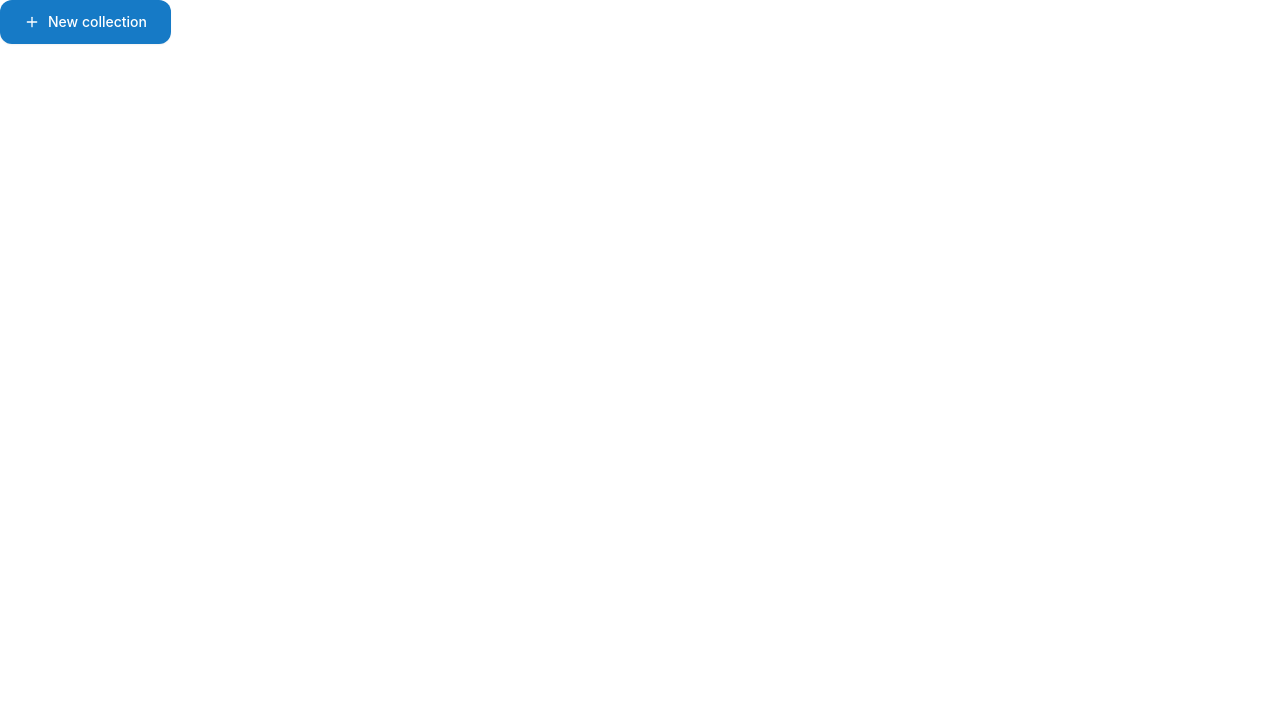
Test: creates through a focused dialog with a private default and dismisses on success
Click the button "New collection": (86, 22) top-left (0, 0), bottom-right (171, 44)
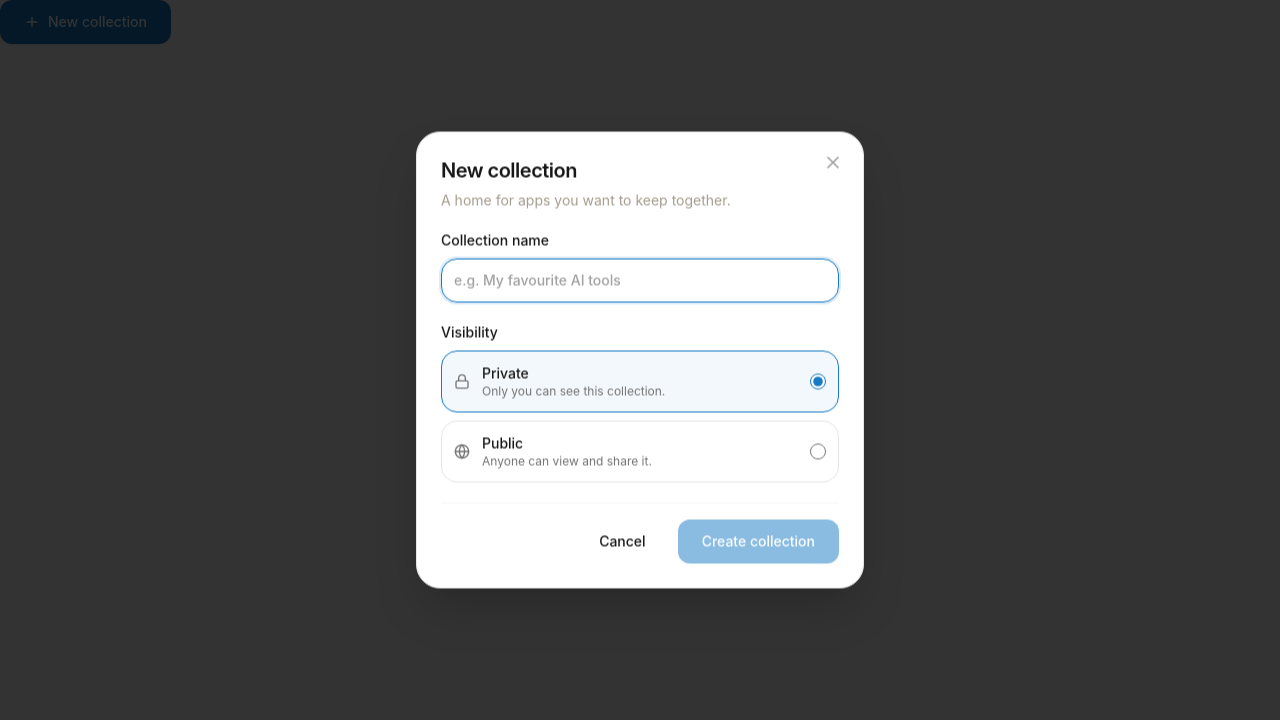
Expected: the dialog is shown, top-left (416, 132), bottom-right (864, 588)
Expected: the radio button labelled "Private" is checked, top-left (810, 374), bottom-right (826, 390)
In the field labelled "Collection name": (640, 280) top-left (441, 258), bottom-right (839, 302), type "AI tools"
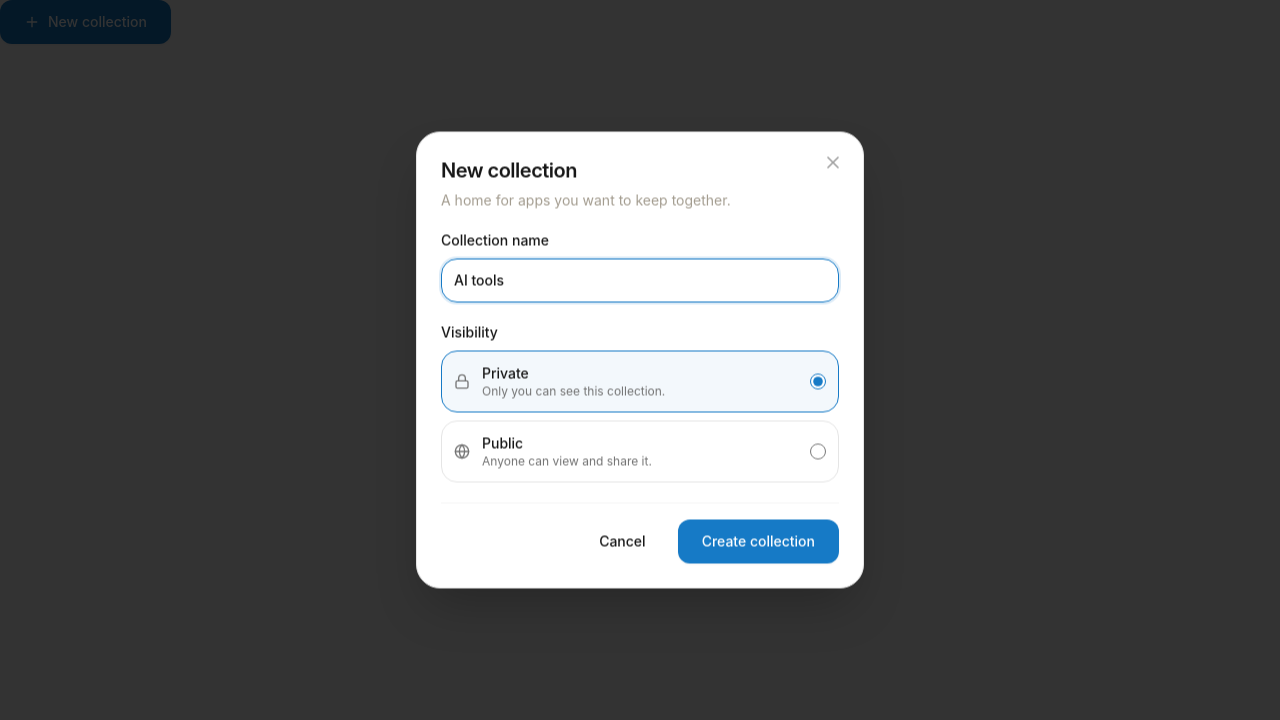
Click the button "Create collection": (758, 542) top-left (678, 520), bottom-right (839, 564)
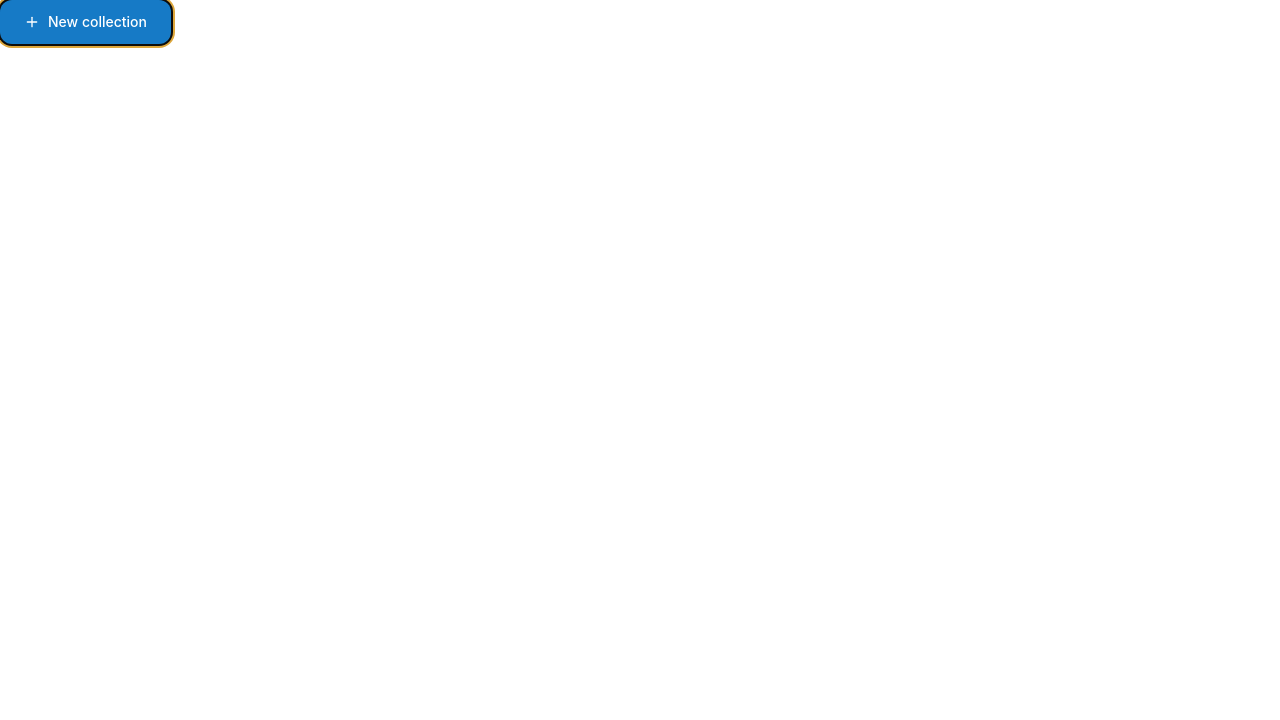
Expected: the dialog is gone
